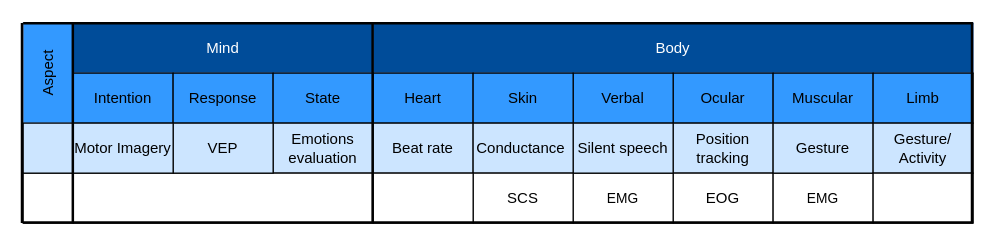
Some shapes in this 998 by 248 pixel diagram are drawn without their labels. The shapes that lost their labels are listed below. From the top down, each one's centre as x and y in pixels, then its label:
At point (47, 147): "App".
At point (47, 197): "Tech".
At point (222, 197): "EEG/fNIRS".
At point (422, 197): "ECG/PPG".
At point (922, 197): "Positional tracking/ Gyroscope".
